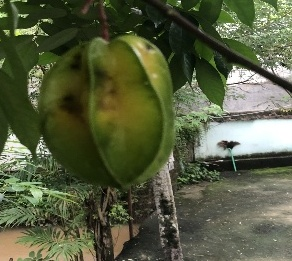Khe: (32, 30, 178, 194)
